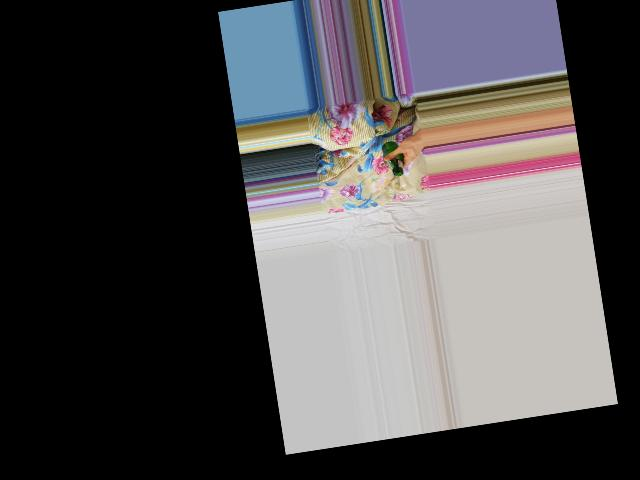beer: (381, 139, 407, 177)
